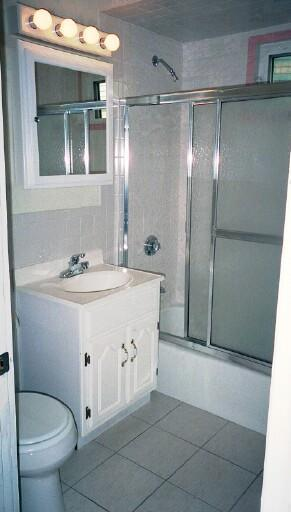Ducha: (127, 98, 268, 434)
Sanitario: (14, 319, 78, 511)
